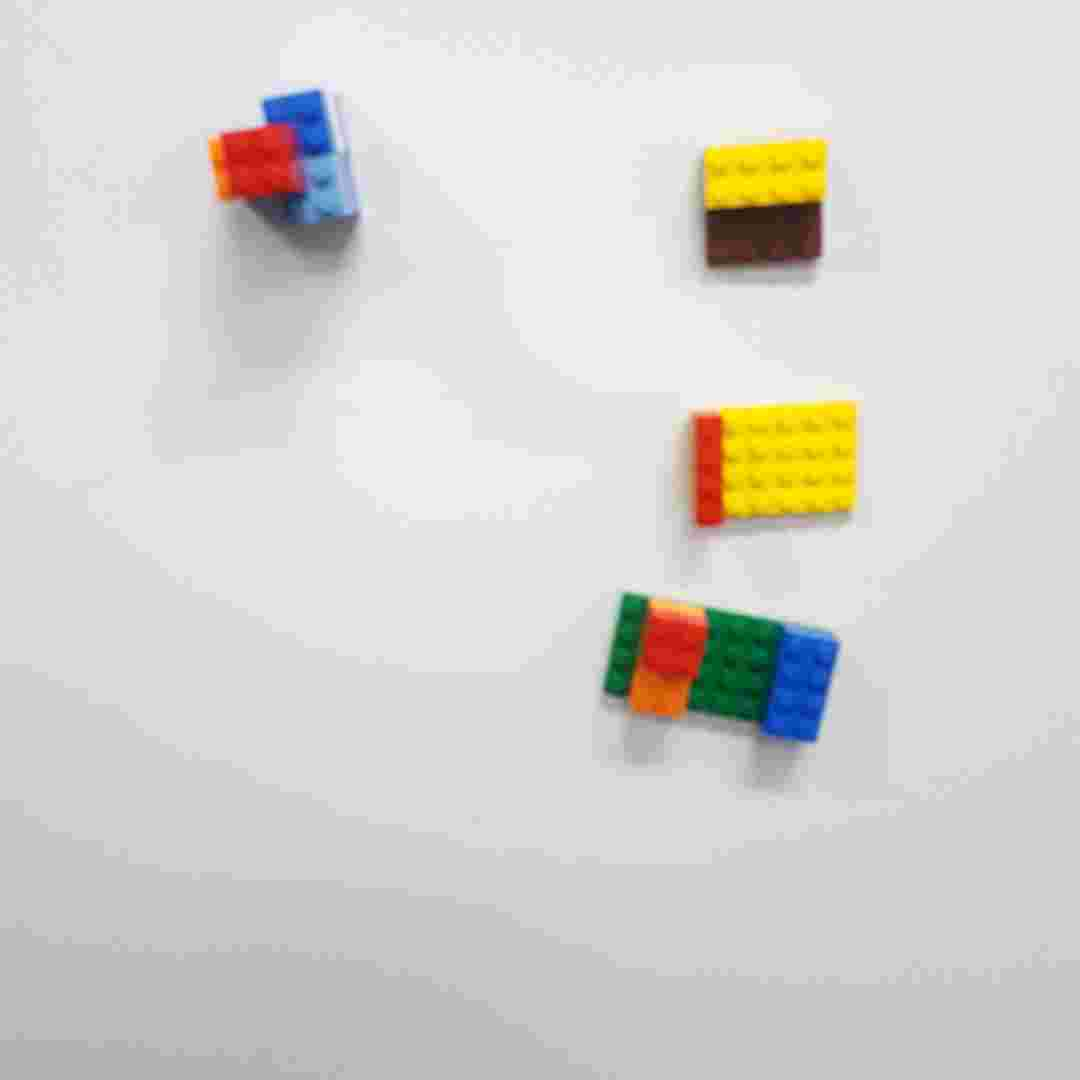LEGO: (594, 590, 847, 753), (203, 84, 373, 237), (685, 399, 869, 533), (698, 134, 828, 271)
